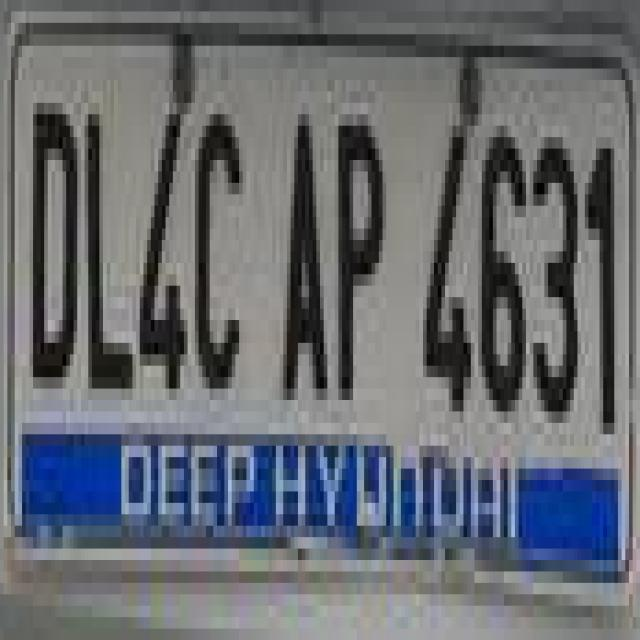license_plate: (0, 23, 618, 560)
